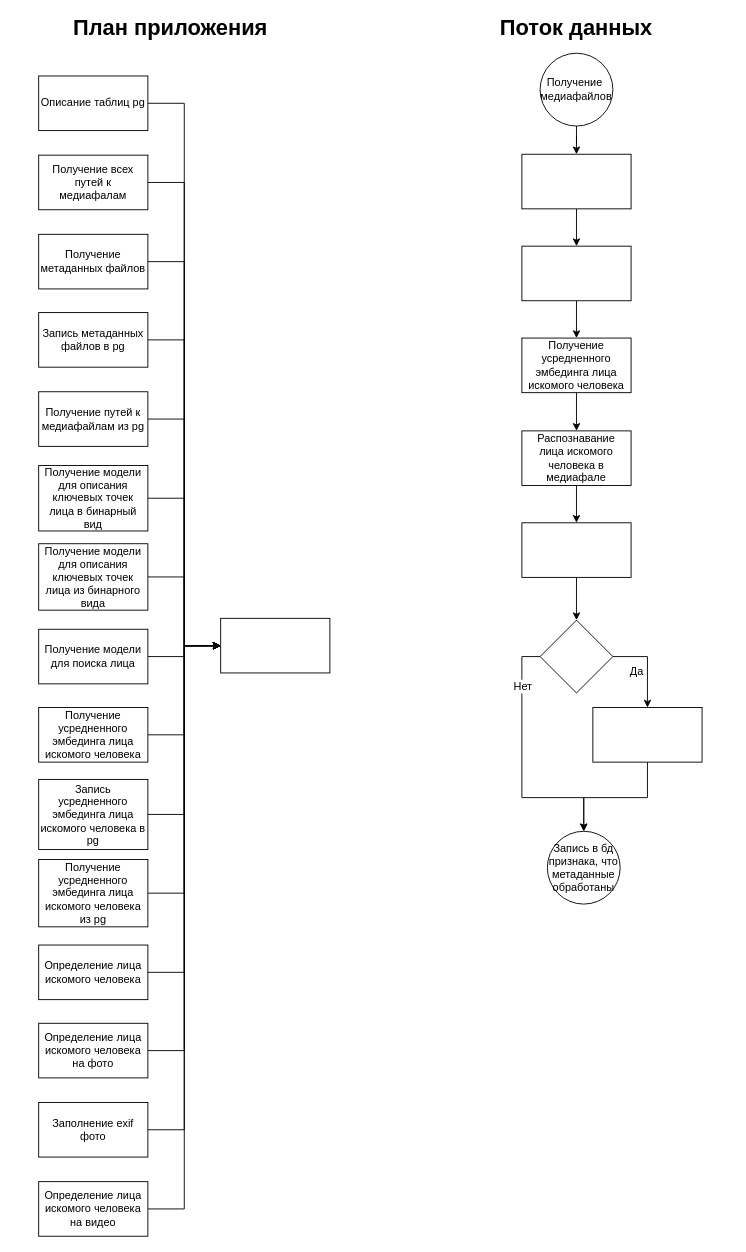
The diagram is 746 pixels wide and 1252 high, and some of its shapes have lost their labels. Each missing label, with the centre of its shape:
"Задание по расписанию" goes at point (275, 645).
"Запись метаданных в бд" goes at point (576, 273).
"Заполнение EXIF" goes at point (647, 734).
"Перемещение медиафайла по необходимому пути" goes at point (576, 549).
"Получение метаданных медиафалов" goes at point (576, 181).
"Это картинка?" goes at point (576, 656).
